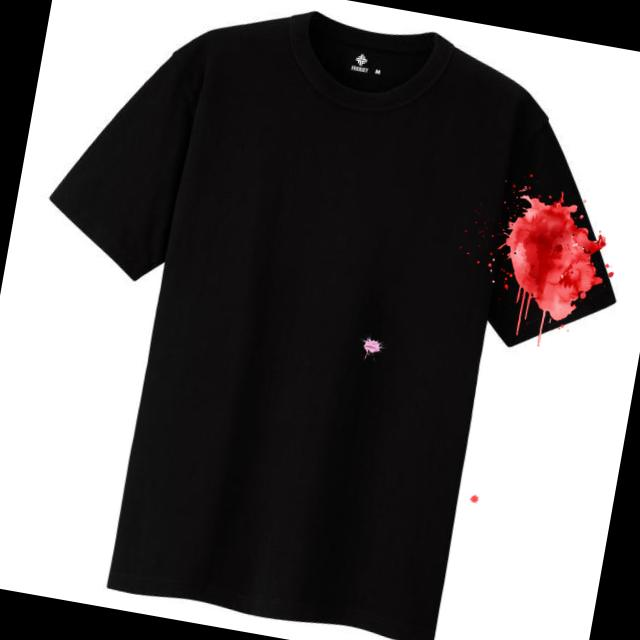stain: (440, 168, 616, 356), (352, 330, 384, 364), (468, 487, 481, 505)
